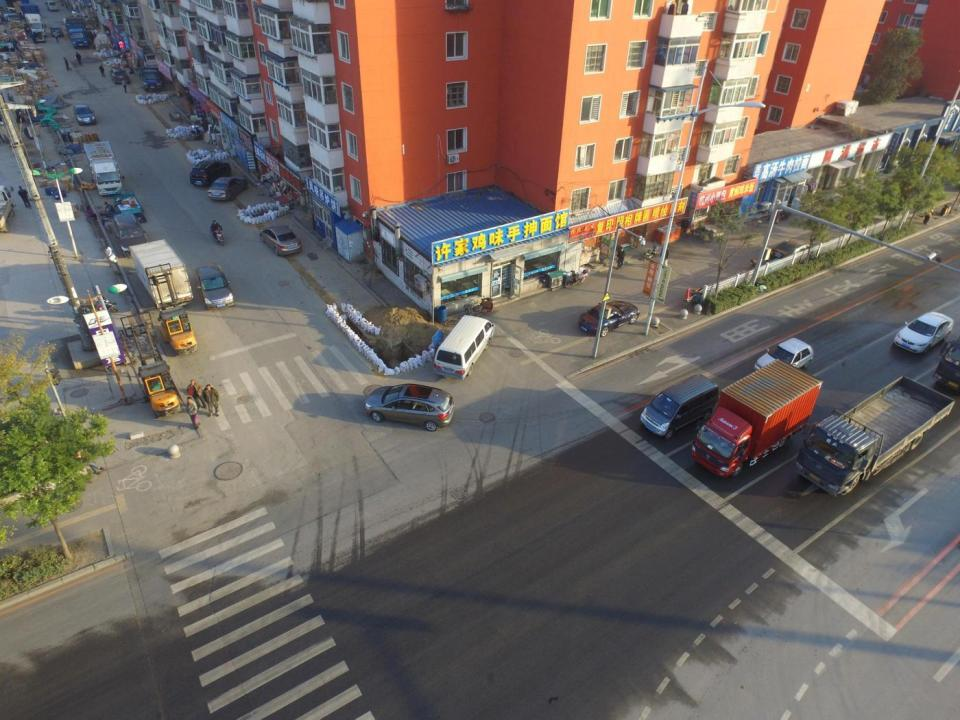car: (362, 382, 455, 432), (895, 308, 954, 354), (755, 336, 811, 376), (580, 300, 638, 336), (194, 263, 235, 310), (260, 225, 302, 256), (112, 214, 147, 251), (207, 174, 247, 204), (769, 236, 815, 262), (190, 160, 230, 186), (110, 68, 130, 85), (50, 26, 65, 36), (46, 1, 58, 9)
truck: (796, 373, 955, 498), (693, 360, 821, 480), (117, 322, 182, 415), (142, 262, 197, 356), (125, 240, 192, 307), (83, 141, 121, 194), (65, 15, 91, 49), (141, 66, 161, 92), (73, 103, 95, 126)
van: (640, 374, 717, 440), (434, 312, 494, 380), (23, 14, 46, 36)
